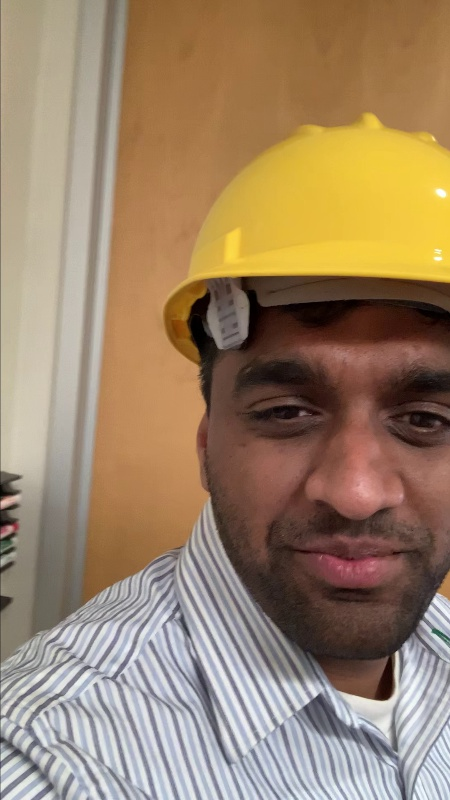helmet: (157, 104, 450, 328)
